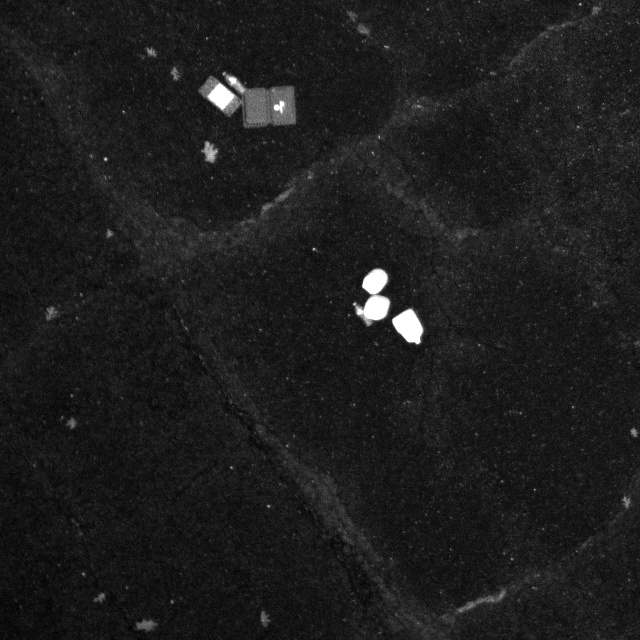bottle: (216, 73, 249, 97), (351, 300, 369, 327)
can: (392, 307, 425, 349), (361, 289, 394, 323), (358, 266, 393, 297)
container: (236, 79, 299, 134), (196, 76, 243, 119)
